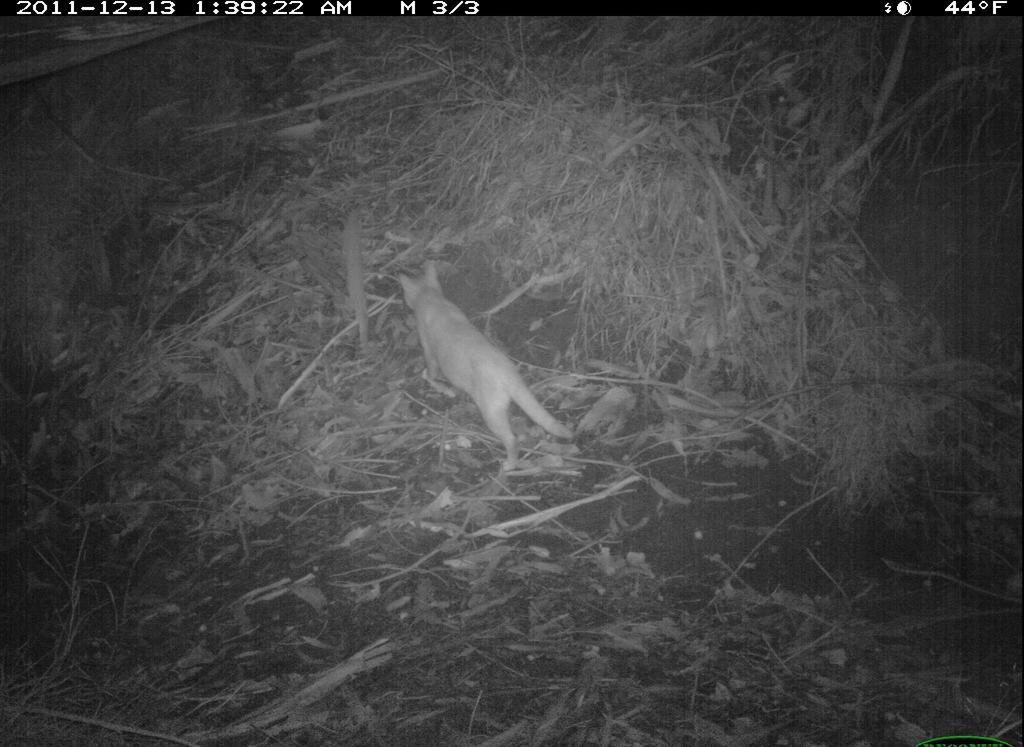cat: (393, 259, 582, 481)
